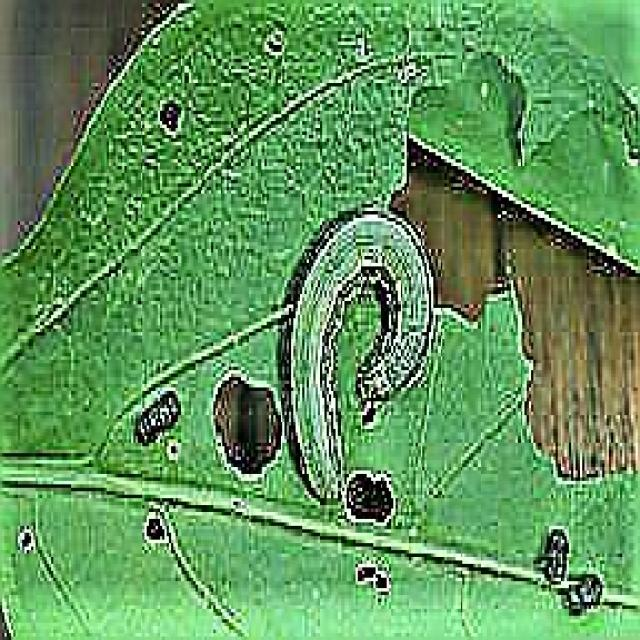Armyworm: (256, 171, 448, 511), (127, 368, 189, 449)
Armyworm_damage: (203, 340, 281, 500), (349, 460, 401, 544), (147, 101, 198, 165)
